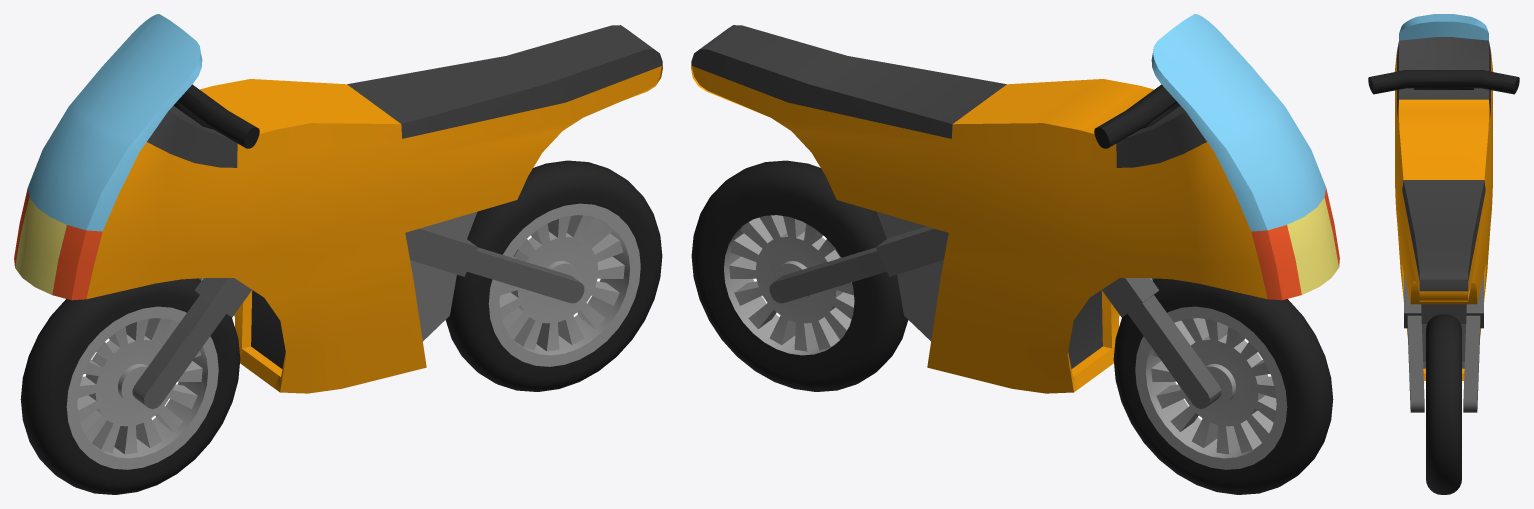
File: motorcycle.glb
3 views of the same model, side by side, from view 1: azimuth 30°, elevation 25°; view 2: azimuth 150°, elevation 25°; view 3: azimuth 270°, elevation 25° (orthographic). The views are drawn at different scales.
Visible parts, largest first — view 1: Cube.725, Circle.2389, Circle.2388, Cube.729, Cube.728, Cube.732; view 2: Cube.725, Circle.2389, Circle.2388, Cube.729, Cube.728, Cube.732; view 3: Cube.725, Circle.2389, Cube.729, Cube.732, Cube.728.
Part boxes in pixels (x1,y1,x2,y2): Cube.725: (14, 14, 662, 393); Circle.2389: (445, 160, 662, 391); Circle.2388: (20, 278, 240, 494); Cube.729: (132, 226, 584, 409); Cube.728: (410, 212, 477, 341); Cube.732: (176, 84, 259, 148); Cube.725: (691, 14, 1339, 393); Circle.2389: (691, 160, 908, 391); Circle.2388: (1113, 278, 1333, 494); Cube.729: (769, 226, 1221, 409); Cube.728: (876, 212, 943, 341); Cube.732: (1094, 84, 1177, 148); Cube.725: (1394, 14, 1493, 380); Circle.2389: (1426, 314, 1461, 494); Cube.729: (1404, 274, 1483, 412); Cube.732: (1368, 70, 1519, 94); Cube.728: (1421, 304, 1466, 368).
Bounding box in the file's own units: 2.35 × 1.61 × 0.6551.
Materials: 1 (1 with a texture image).
